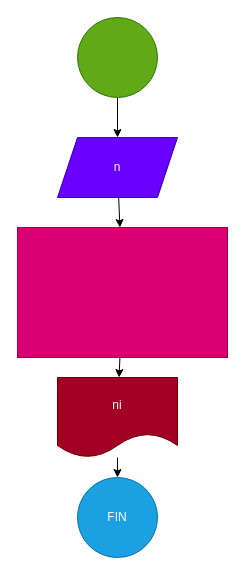
Image size: 245x575. Some labels were removed from this diagram. The centre of each missing label's shape, as x and y in pixels:
d1=((n%10)*1000) pe=n//10 d2=((n%10)*100) pe=n//10 d3=((n%10)*10) d4=pe//10: pixel 122 292
INICIO: pixel 117 57
